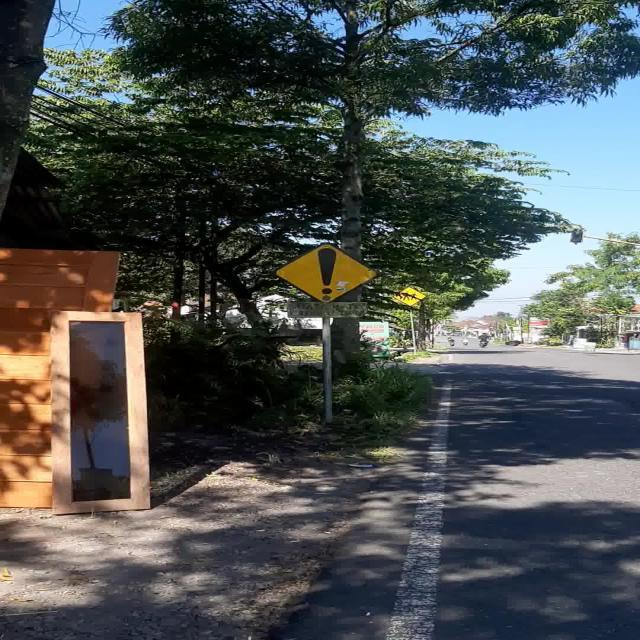Hati-Hati: (273, 242, 380, 304)
